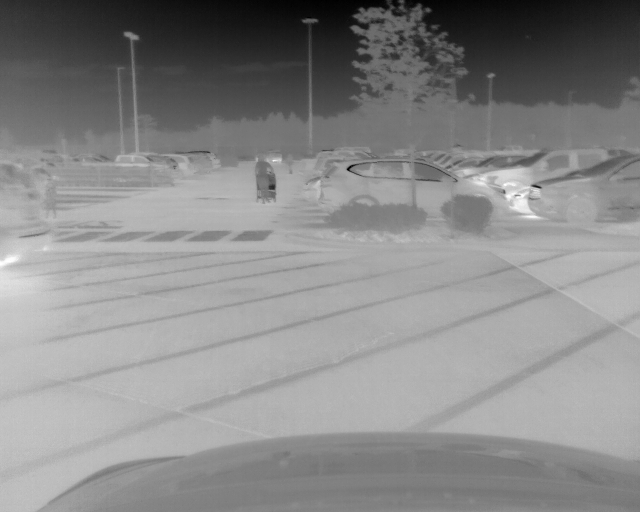car: (317, 157, 509, 224), (470, 147, 615, 211), (527, 152, 640, 226), (1, 160, 51, 270), (454, 150, 534, 177), (114, 154, 179, 183), (193, 150, 222, 176), (172, 153, 198, 180), (255, 148, 285, 164)
people: (253, 156, 275, 204), (44, 175, 58, 217), (285, 153, 294, 174)
